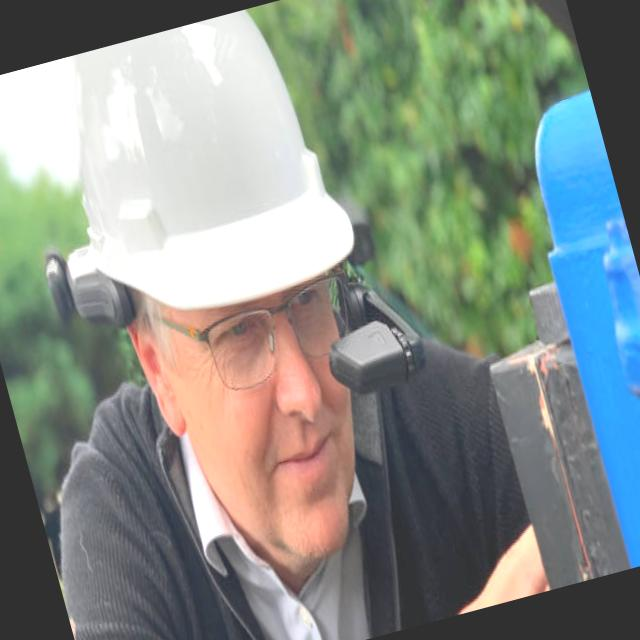helmet: (29, 0, 388, 361)
no-goggles: (136, 263, 372, 416)
no-vest: (91, 325, 482, 640)
